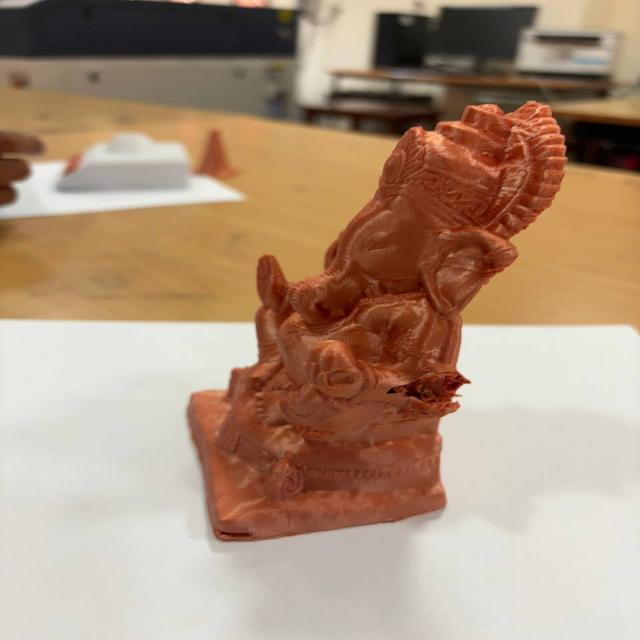cracks: (372, 354, 483, 437)
